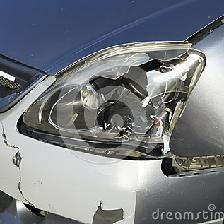broken_light: (19, 11, 211, 186)
